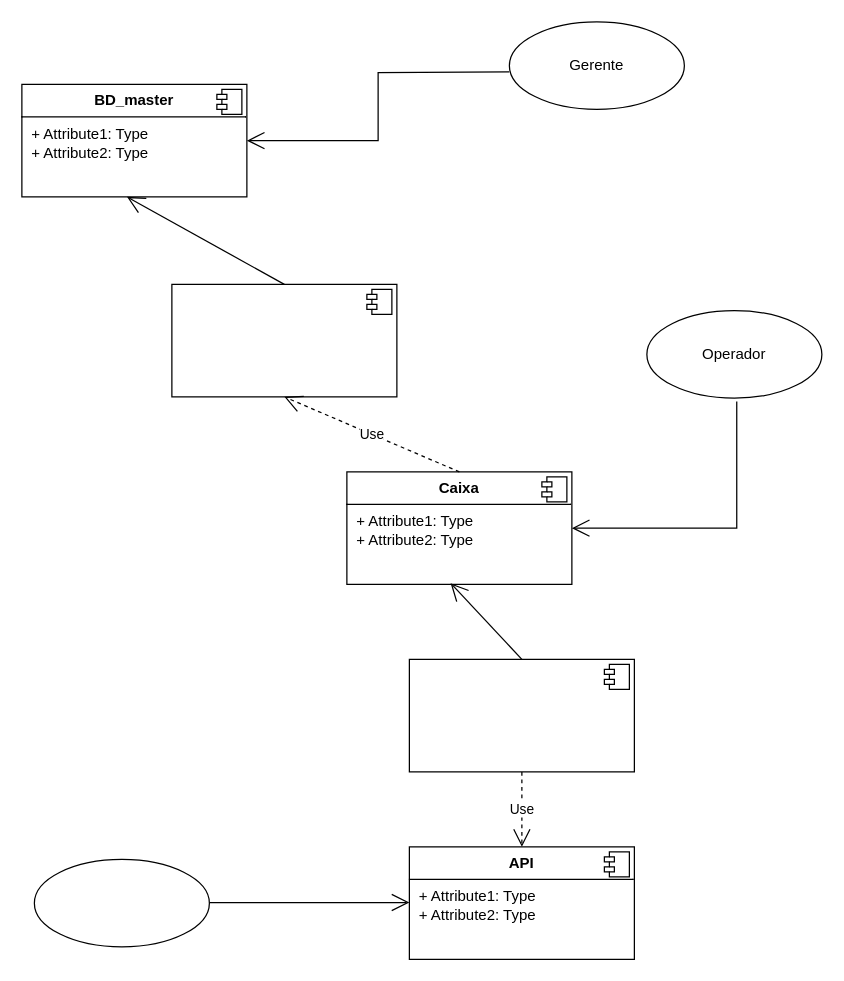
This 844x981 diagram has some shape labels left out. Here are the shapes that lost their labels. From the top down, the box of each, then its label:
(171, 283, 397, 397): BD_caixa + Attribute1: Type + Attribute2: Type
(408, 658, 634, 772): WEB + Attribute1: Type + Attribute2: Type
(33, 858, 209, 947): Cliente
